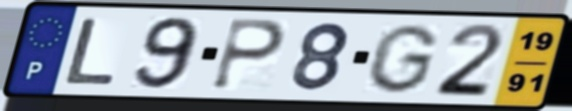2: (434, 21, 508, 100)
8: (288, 20, 352, 94)
9: (131, 15, 203, 92)
G: (362, 22, 443, 96)
L: (61, 16, 121, 87)
P: (207, 16, 289, 93)
